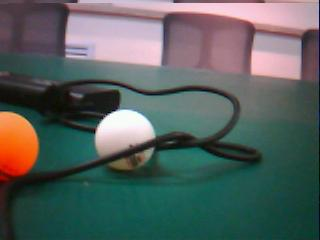oball: (0, 109, 39, 182)
